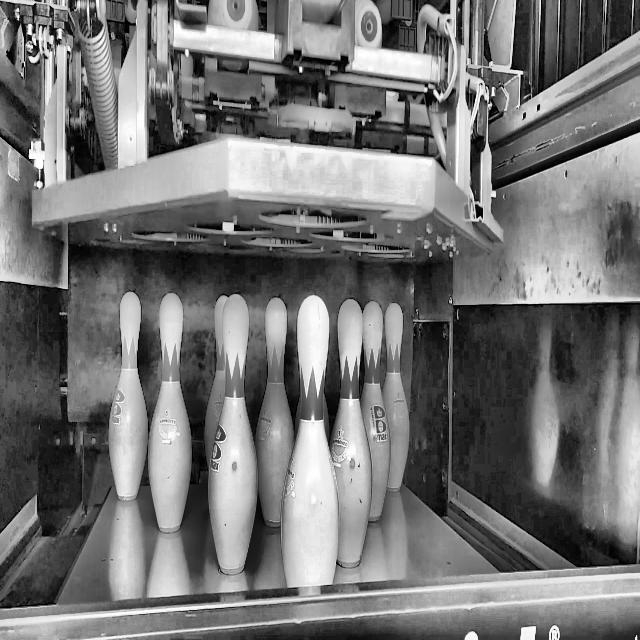bowling-pins: (281, 295, 339, 587), (208, 293, 258, 574), (330, 299, 372, 567), (147, 293, 192, 532), (255, 297, 295, 527), (108, 292, 147, 501), (361, 300, 390, 521), (383, 302, 410, 492), (204, 295, 227, 466)
